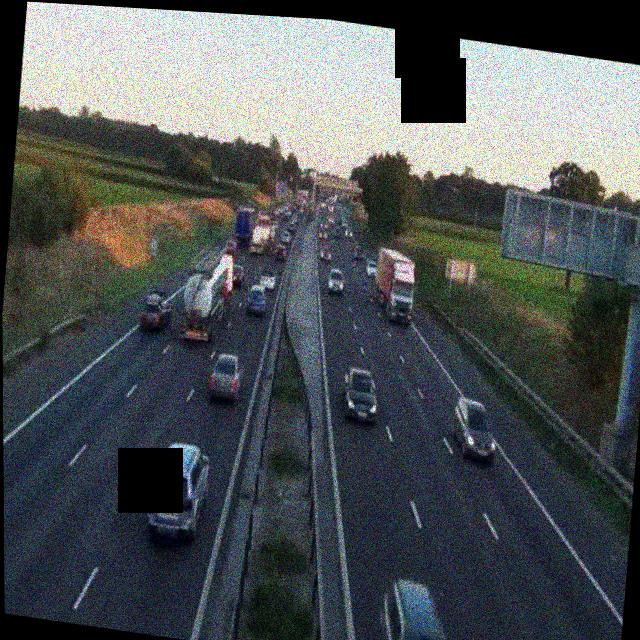car: (143, 439, 212, 548), (375, 574, 466, 640), (448, 396, 500, 466), (339, 365, 380, 424), (207, 349, 244, 403), (138, 287, 172, 333), (245, 282, 268, 317), (326, 267, 346, 295), (258, 266, 275, 292), (362, 258, 378, 280), (318, 246, 331, 267), (273, 241, 286, 260), (353, 244, 365, 261), (280, 229, 291, 245), (516, 639, 620, 640)
truck: (175, 239, 238, 346), (374, 247, 419, 325), (232, 205, 258, 253), (249, 211, 272, 254)
